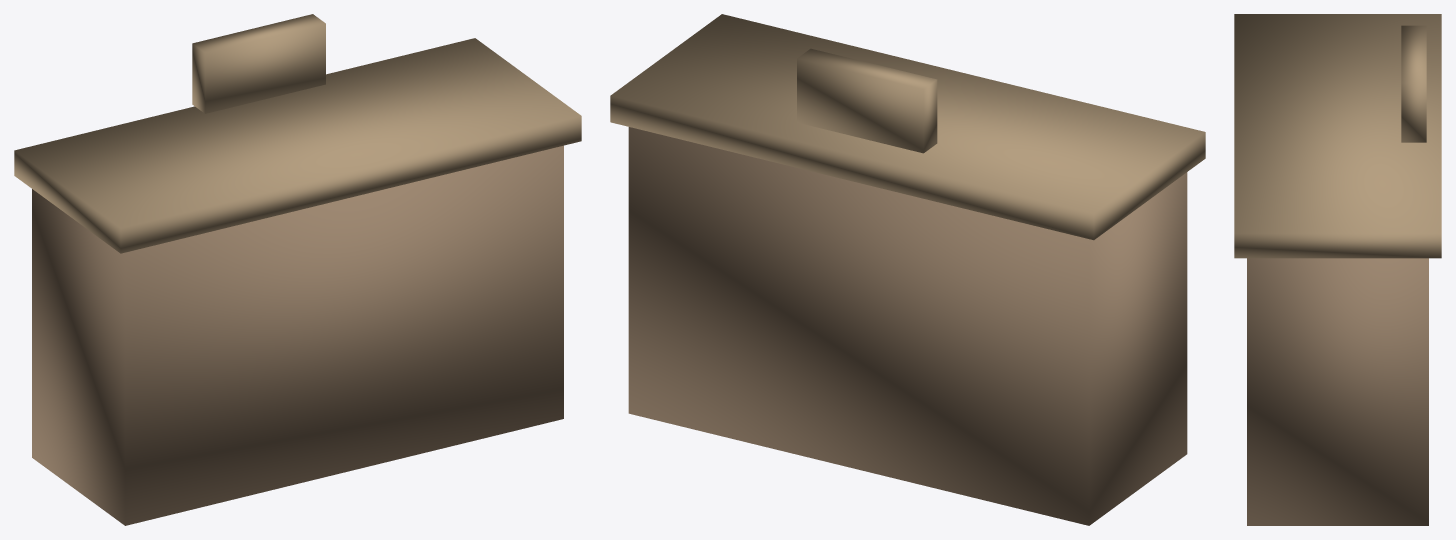
Rendered from judge_bench__compact.glb.
3 views of the same model, side by side, from view 1: azimuth 30°, elevation 25°; view 2: azimuth 150°, elevation 25°; view 3: azimuth 270°, elevation 25° (orthographic). The views are drawn at different scales.
Parts seen in each view (by area): view 1: world; view 2: world; view 3: world.
Part boxes in pixels (bbox=[...]): world: bbox=[14, 14, 581, 525]; world: bbox=[610, 14, 1205, 525]; world: bbox=[1234, 14, 1441, 525].
Size of the model in its own units: 1.76 by 1.38 by 0.7052.
